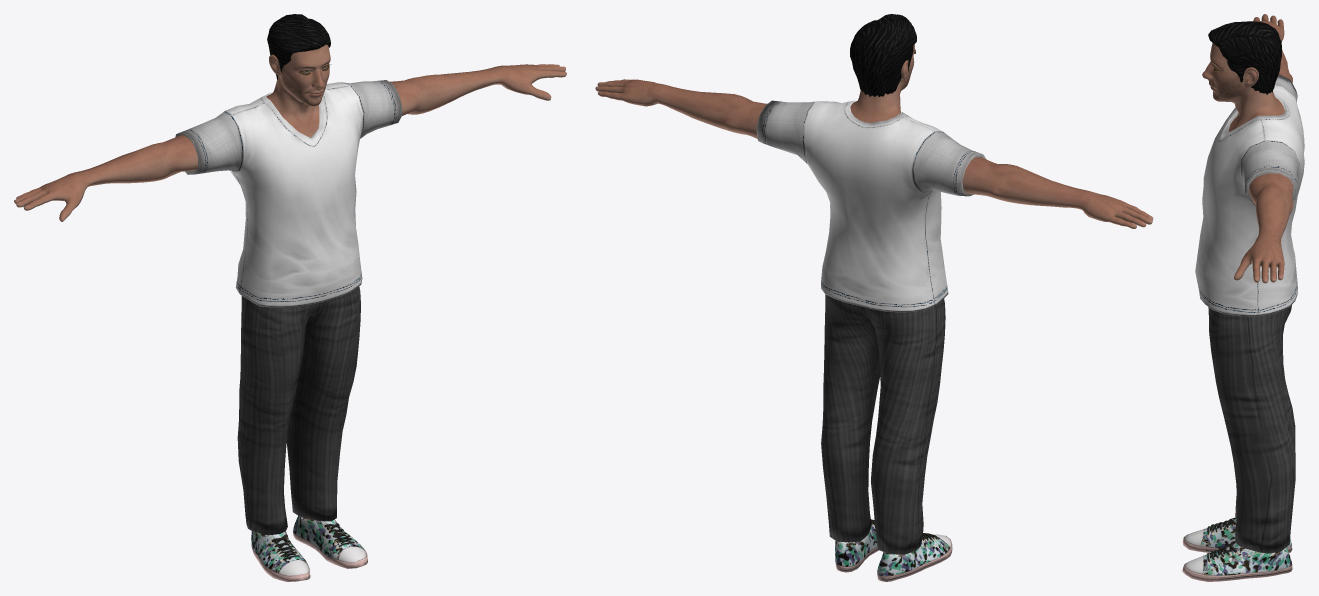
Rendered from Male 1.obj.
The picture shows the model from 3 angles, left to right: view 1: azimuth 30°, elevation 25°; view 2: azimuth 150°, elevation 25°; view 3: azimuth 270°, elevation 25°; orthographic projection.
Parts seen in each view (by area): view 1: Tops, Bottoms, Body, Shoes, Hair; view 2: Tops, Bottoms, Body, Hair, Shoes; view 3: Bottoms, Tops, Body, Shoes, Hair.
Part boxes in pixels (left/top/right/bottom): Tops: left=175, top=80, right=402, bottom=307; Bottoms: left=237, top=286, right=360, bottom=535; Body: left=14, top=44, right=566, bottom=519; Shoes: left=251, top=515, right=367, bottom=581; Hair: left=267, top=14, right=330, bottom=79; Tops: left=756, top=100, right=985, bottom=312; Bottoms: left=821, top=294, right=945, bottom=554; Body: left=595, top=45, right=1153, bottom=555; Hair: left=850, top=14, right=916, bottom=96; Shoes: left=835, top=519, right=952, bottom=581; Bottoms: left=1208, top=305, right=1295, bottom=553; Tops: left=1195, top=74, right=1304, bottom=316; Body: left=1202, top=14, right=1293, bottom=553; Shoes: left=1182, top=517, right=1292, bottom=581; Hair: left=1208, top=21, right=1281, bottom=94.
Bounding box in the file's own units: 194 × 181 × 37.33.
Materials: 5 (5 with a texture image).
